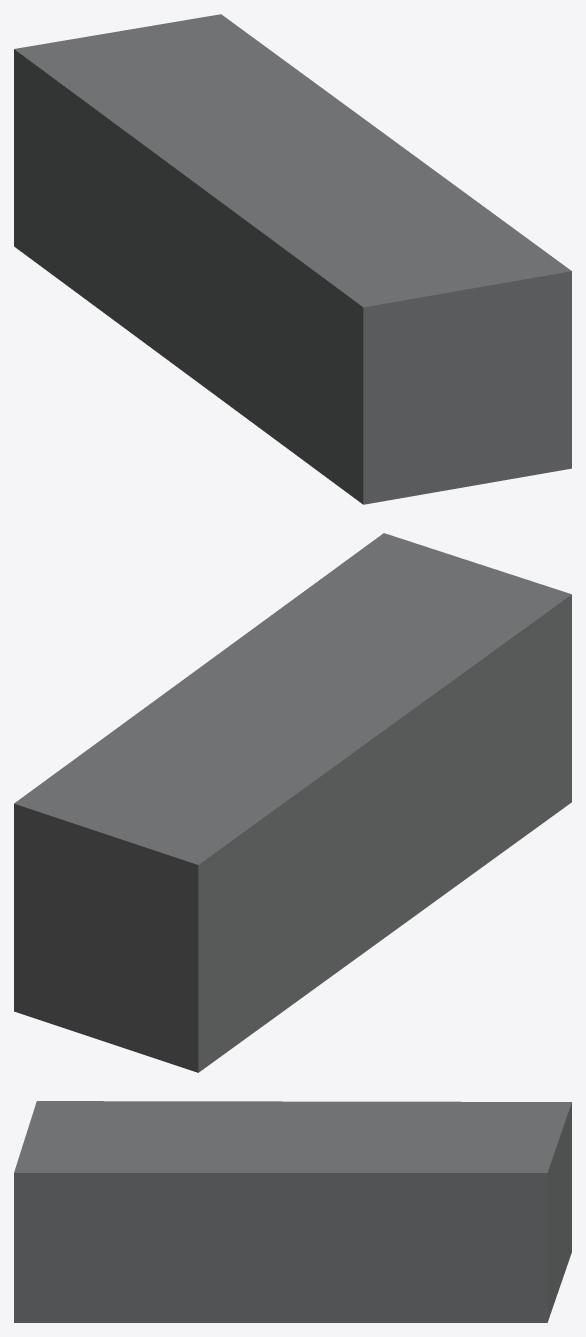
3 views of the same model, one above another, from view 1: azimuth 30°, elevation 25°; view 2: azimuth 150°, elevation 25°; view 3: azimuth 270°, elevation 25° (orthographic). The views are drawn at different scales.
Visible parts, largest first — view 1: 8_7; view 2: 8_7; view 3: 8_7.
Boxes of the visible parts, box(x1,y1,x2,y2) form: 8_7: box(14, 14, 571, 504); 8_7: box(14, 533, 571, 1072); 8_7: box(14, 1101, 571, 1322).
Size of the model in its own units: 0.0111 by 0.0108 by 0.0365.
Materials: 1 (1 with a texture image).
